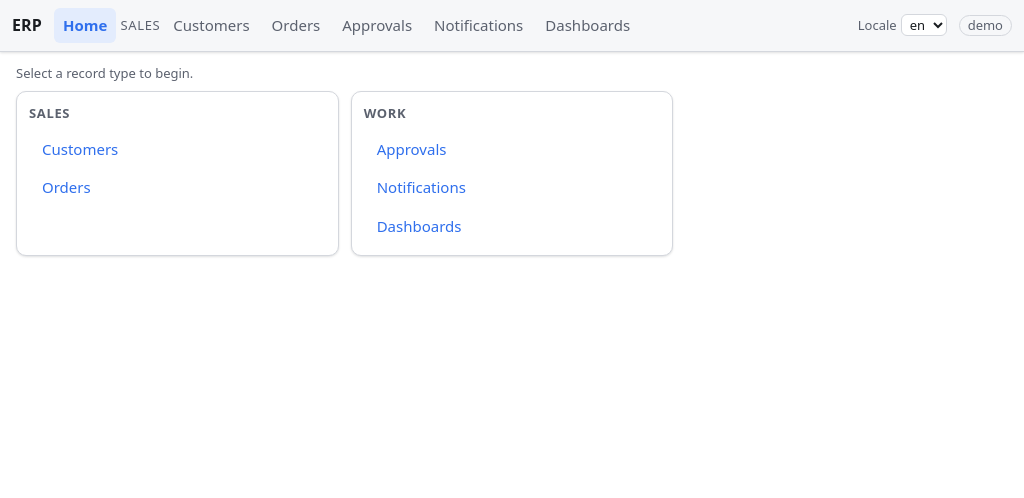
RuntimeShell › the home view lands on module cards and a Work card, not a dead end
Check: the button "Customers" in the row of "ERP" is shown, box [164, 8, 259, 42]
Check: the text "Select a record type to begin." is shown, box [16, 64, 193, 82]
Click the button named "Customers — open the list" at [177, 149], box [29, 132, 326, 166]
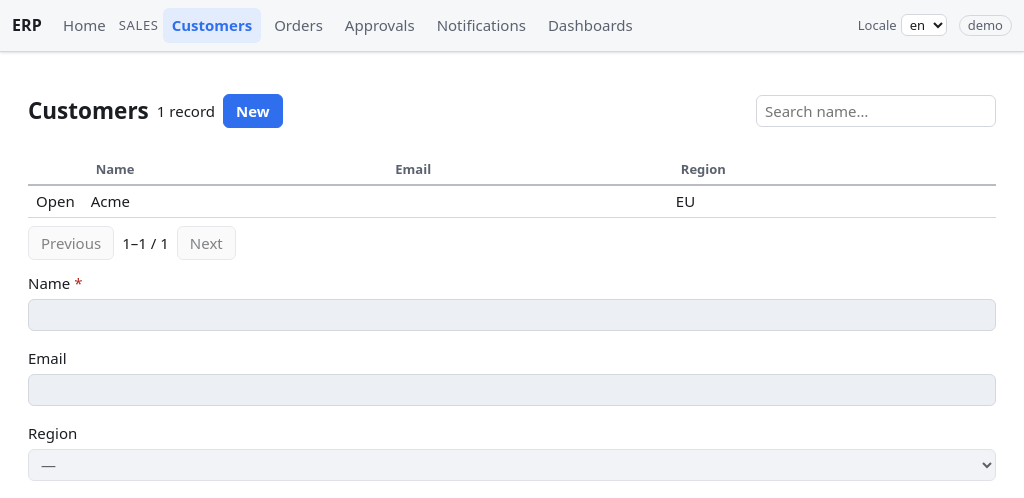
Check: the text "1 record" is shown, box [157, 100, 215, 122]
